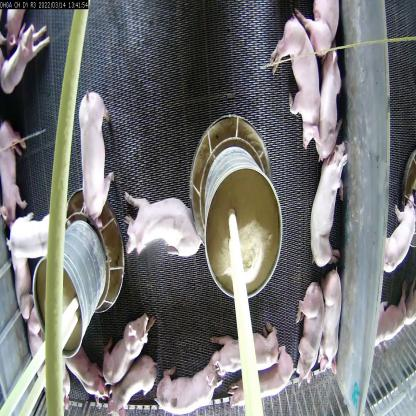Pig: (264, 7, 318, 158), (308, 136, 351, 281), (128, 182, 199, 261), (220, 352, 293, 415), (78, 86, 108, 230), (0, 124, 37, 237), (151, 353, 220, 411), (214, 319, 278, 378), (9, 198, 57, 267), (104, 306, 148, 378), (322, 15, 340, 162), (111, 360, 155, 416), (322, 263, 342, 380), (300, 278, 322, 374)
